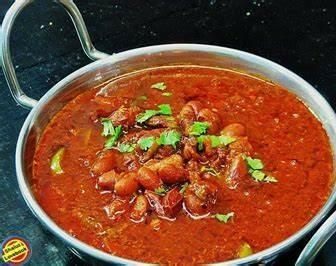RajmaCurry: (30, 65, 336, 266)
